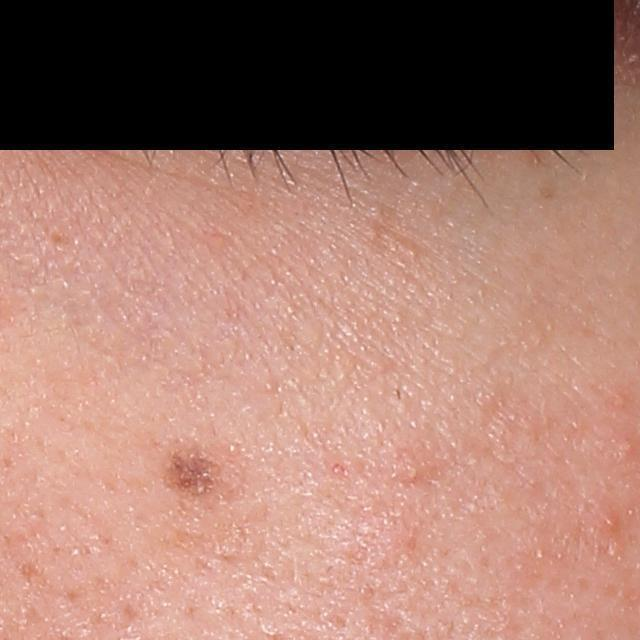comedo: (621, 439, 638, 456)
melasma: (522, 126, 550, 174)
nevus: (159, 450, 231, 500)
